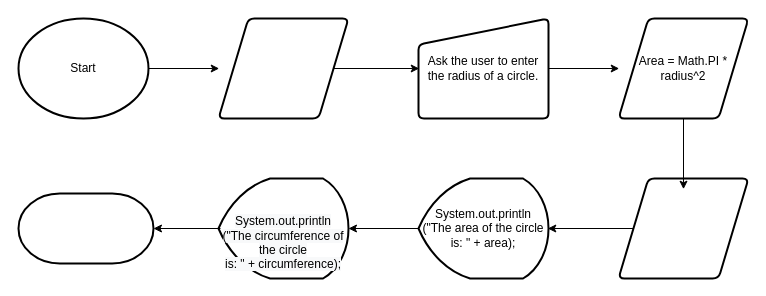
Image size: 766x296. Some labels were removed from this diagram. The centre of each missing label's shape, as x and y in pixels:
Circumference = 2 * Math.PI * radius: the point at 683,228
Input the scanner class for user input: the point at 283,68
Stop: the point at 85,228
